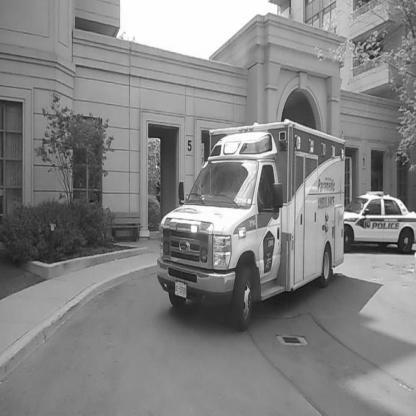ambulance: (144, 100, 362, 333)
